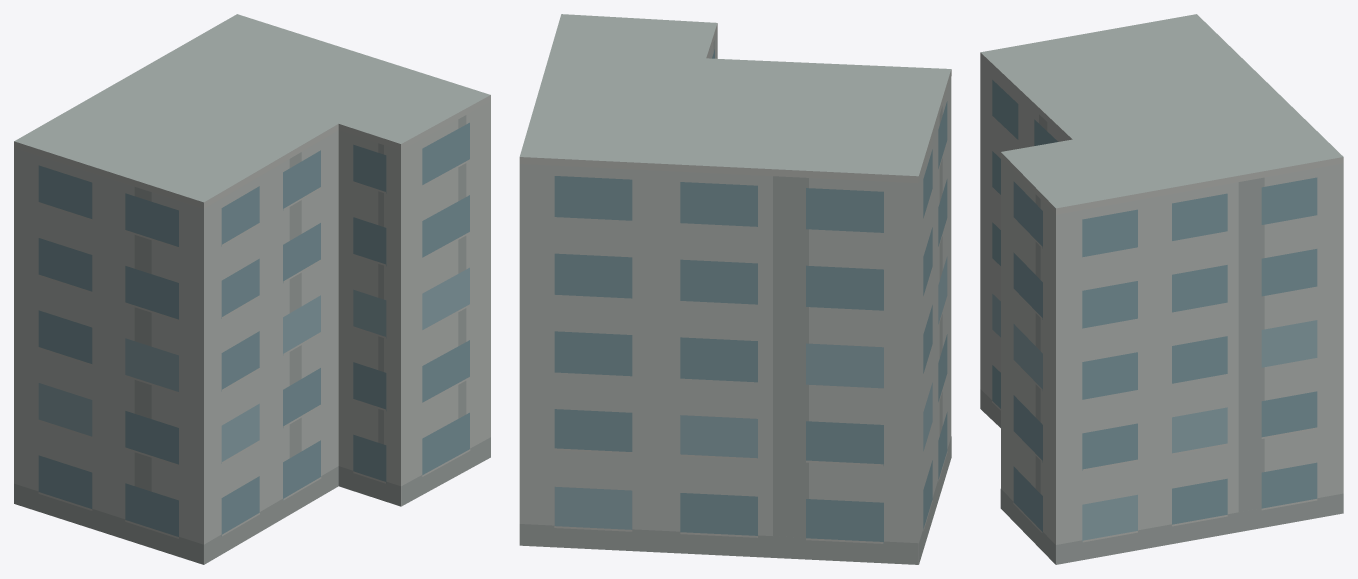
File: survey-upis-32953154.glb
The picture shows the model from 3 angles, left to right: view 1: azimuth 30°, elevation 25°; view 2: azimuth 150°, elevation 25°; view 3: azimuth 270°, elevation 25°; orthographic projection. The views are drawn at different scales.
Parts seen in each view (by area): view 1: survey-upis-32953154.tmp; view 2: survey-upis-32953154.tmp; view 3: survey-upis-32953154.tmp.
Boxes of the visible parts, x1=… form: survey-upis-32953154.tmp: x1=14, y1=14, x2=490, y2=564; survey-upis-32953154.tmp: x1=519, y1=14, x2=951, y2=564; survey-upis-32953154.tmp: x1=980, y1=14, x2=1343, y2=564.
Bounding box in the file's own units: 15.8 × 13.5 × 12.48.
